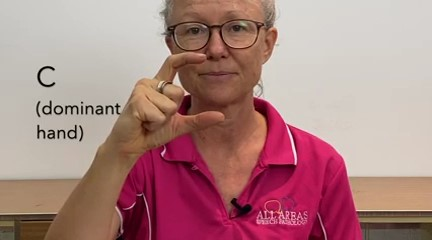C: (123, 46, 232, 150)
